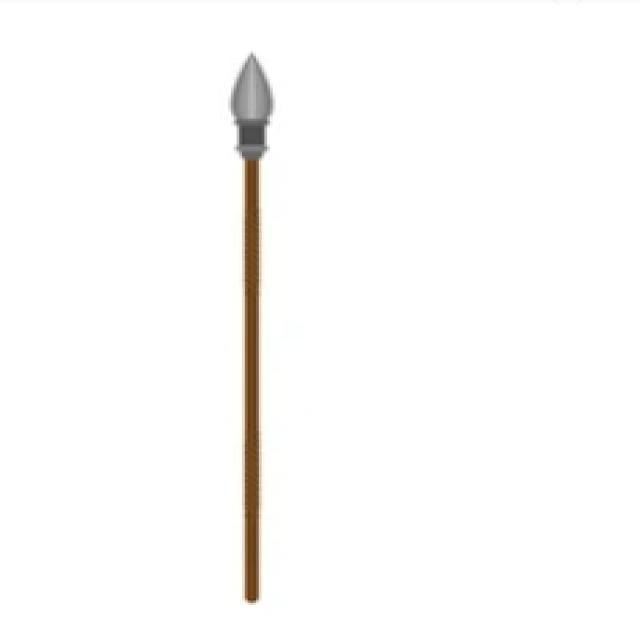spear: (214, 38, 300, 627)
